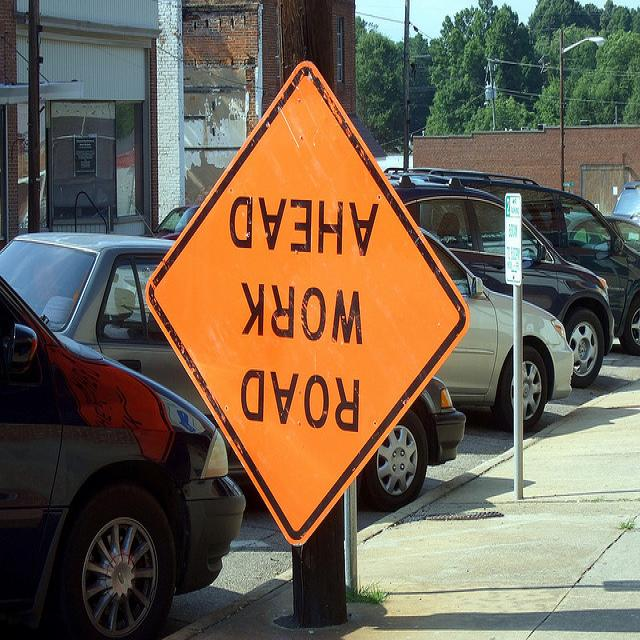Vehicle: (0, 232, 467, 512), (0, 274, 246, 638), (386, 174, 617, 387), (382, 166, 640, 353), (421, 226, 577, 431), (604, 180, 640, 253)
